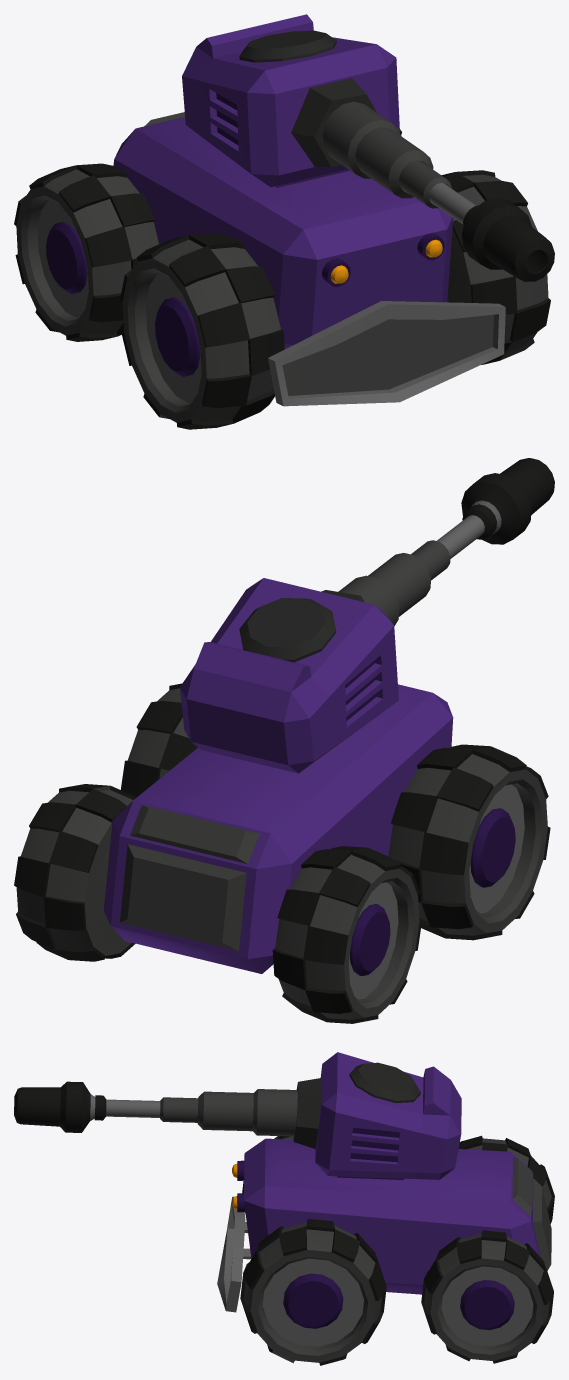
File: Танк4.1.fbx
3 views of the same model, one above another, from view 1: azimuth 30°, elevation 25°; view 2: azimuth 150°, elevation 25°; view 3: azimuth 270°, elevation 25° (orthographic). The views are drawn at different scales.
Visible parts, largest first — view 1: Cylinder.035, Cylinder.034; view 2: Cylinder.035, Cylinder.034; view 3: Cylinder.035, Cylinder.034.
Part boxes in pixels (x1=…): Cylinder.035: x1=14, y1=112, x2=550, y2=429; Cylinder.034: x1=182, y1=14, x2=554, y2=281; Cylinder.035: x1=14, y1=683, x2=550, y2=1023; Cylinder.034: x1=180, y1=458, x2=554, y2=773; Cylinder.035: x1=217, y1=1135, x2=554, y2=1365; Cylinder.034: x1=14, y1=1052, x2=461, y2=1179.
Bounding box in the file's own units: 747 × 673 × 1370.
